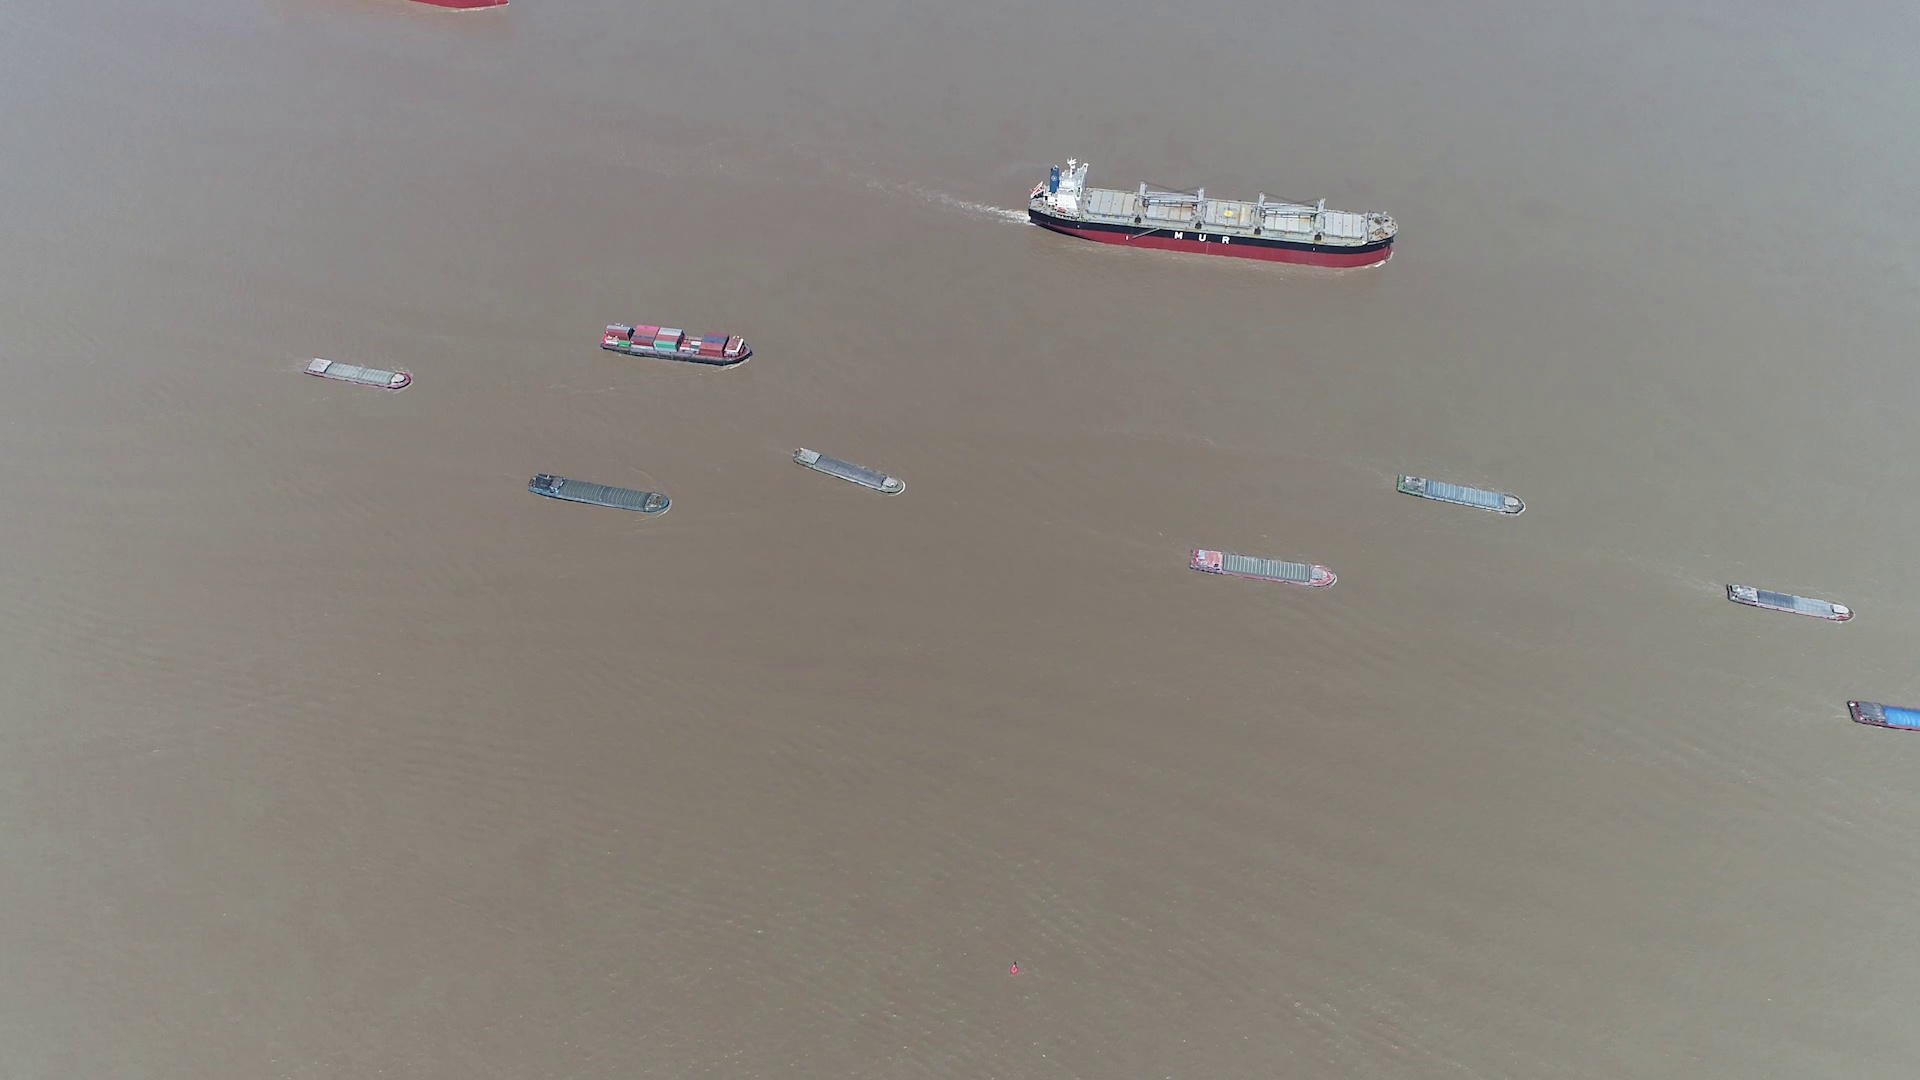ship: (1033, 166, 1396, 266), (600, 322, 756, 365), (527, 472, 671, 516), (1189, 547, 1335, 589), (793, 448, 905, 498), (1398, 472, 1524, 516), (1724, 582, 1854, 622), (302, 356, 413, 390), (1847, 700, 1920, 736)
